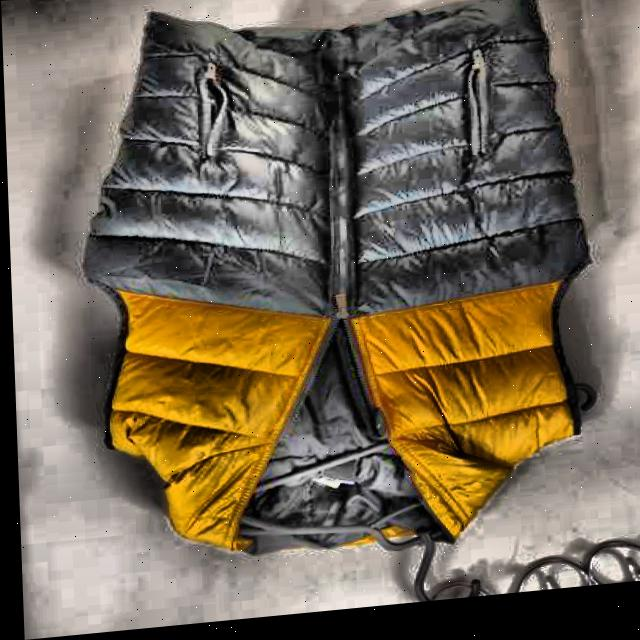clothes: (65, 0, 606, 580)
